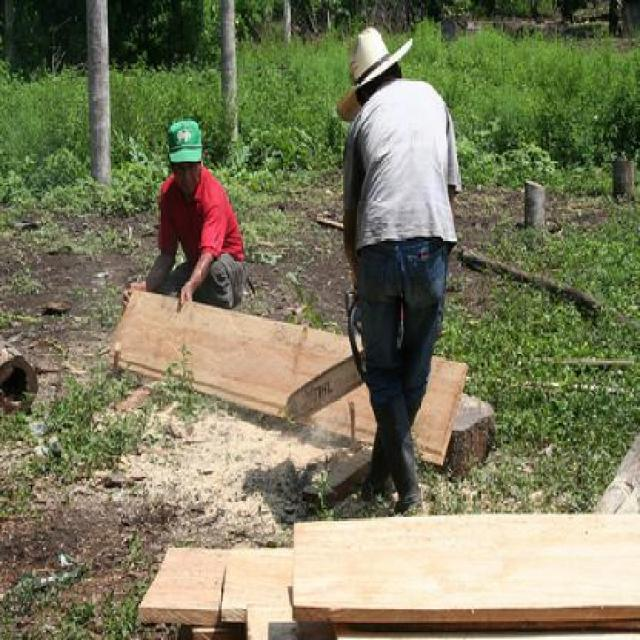Chainsaw: (284, 289, 368, 425)
